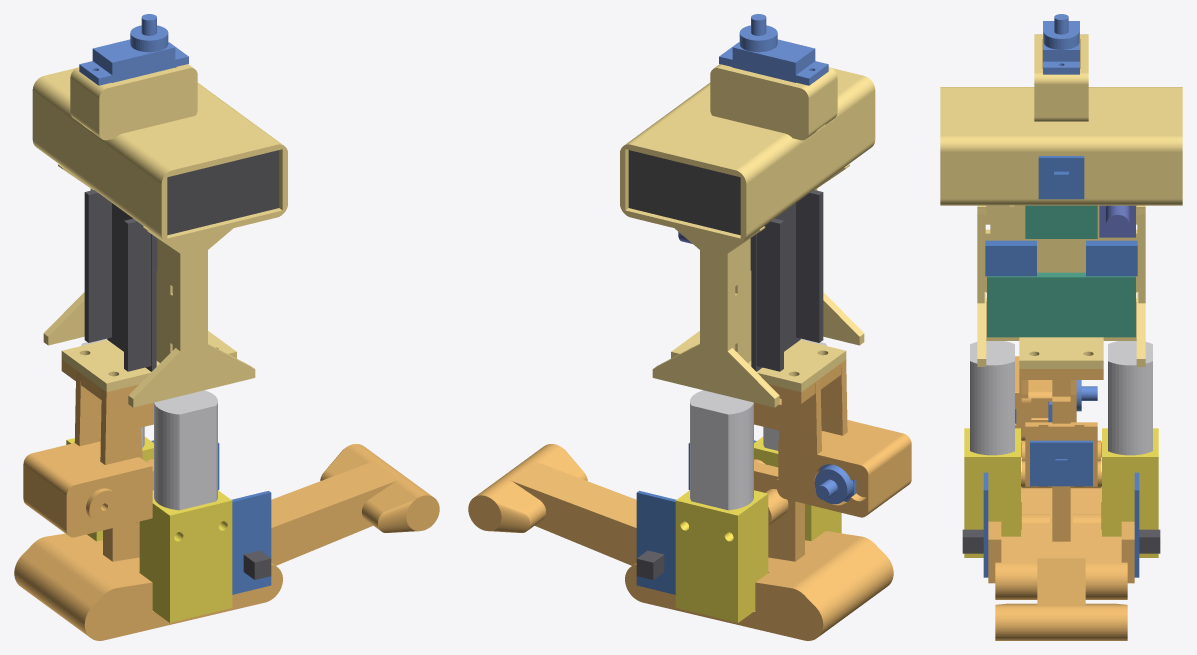
File: body.glb
The picture shows the model from 3 angles, left to right: view 1: azimuth 30°, elevation 25°; view 2: azimuth 150°, elevation 25°; view 3: azimuth 270°, elevation 25°; orthographic projection. The views are drawn at different scales.
Visible parts, largest first — view 1: torso, core_right, esp32, tt_gearbox_r, core_left, tt_can_r, holder, pan_servo, ir_pcb_r, ir_tcrt_r; view 2: torso, core_left, core_right, esp32, tt_gearbox_l, tt_can_l, holder, pan_servo, ir_pcb_l, tt_gearbox_r, tail_servo, ir_tcrt_l; view 3: torso, core_right, core_left, bms_2s, tt_can_l, tt_can_r, tt_gearbox_l, tt_gearbox_r, imu, mx1508, pan_servo, switch (+8 smaller).
Part boxes in pixels (bbox=[...]): torso: bbox=[32, 64, 287, 407]; core_right: bbox=[31, 376, 439, 640]; esp32: bbox=[84, 190, 157, 371]; tt_gearbox_r: bbox=[139, 490, 232, 622]; core_left: bbox=[14, 360, 397, 611]; tt_can_r: bbox=[154, 390, 217, 510]; holder: bbox=[167, 150, 279, 235]; pan_servo: bbox=[79, 14, 188, 85]; ir_pcb_r: bbox=[231, 491, 271, 594]; ir_tcrt_r: bbox=[243, 550, 271, 579]; torso: bbox=[620, 64, 875, 407]; core_left: bbox=[468, 376, 876, 640]; core_right: bbox=[510, 360, 911, 611]; esp32: bbox=[750, 190, 823, 371]; tt_gearbox_l: bbox=[675, 490, 768, 622]; tt_can_l: bbox=[690, 390, 753, 510]; holder: bbox=[628, 150, 740, 235]; pan_servo: bbox=[719, 14, 828, 85]; ir_pcb_l: bbox=[636, 490, 676, 594]; tt_gearbox_r: bbox=[754, 436, 841, 541]; tail_servo: bbox=[814, 464, 856, 504]; ir_tcrt_l: bbox=[636, 550, 664, 579]; torso: bbox=[940, 34, 1182, 368]; core_right: bbox=[988, 356, 1061, 640]; core_left: bbox=[1061, 369, 1134, 640]; bms_2s: bbox=[987, 272, 1135, 337]; tt_can_l: bbox=[1108, 341, 1152, 455]; tt_can_r: bbox=[970, 341, 1014, 455]; tt_gearbox_l: bbox=[1102, 428, 1158, 557]; tt_gearbox_r: bbox=[964, 428, 1020, 557]; imu: bbox=[1030, 440, 1092, 486]; mx1508: bbox=[1025, 205, 1097, 238]; pan_servo: bbox=[1043, 14, 1079, 74]; switch: bbox=[1038, 156, 1084, 199].
Bounding box in the file's own units: 0.1345 × 0.1996 × 0.0805.
